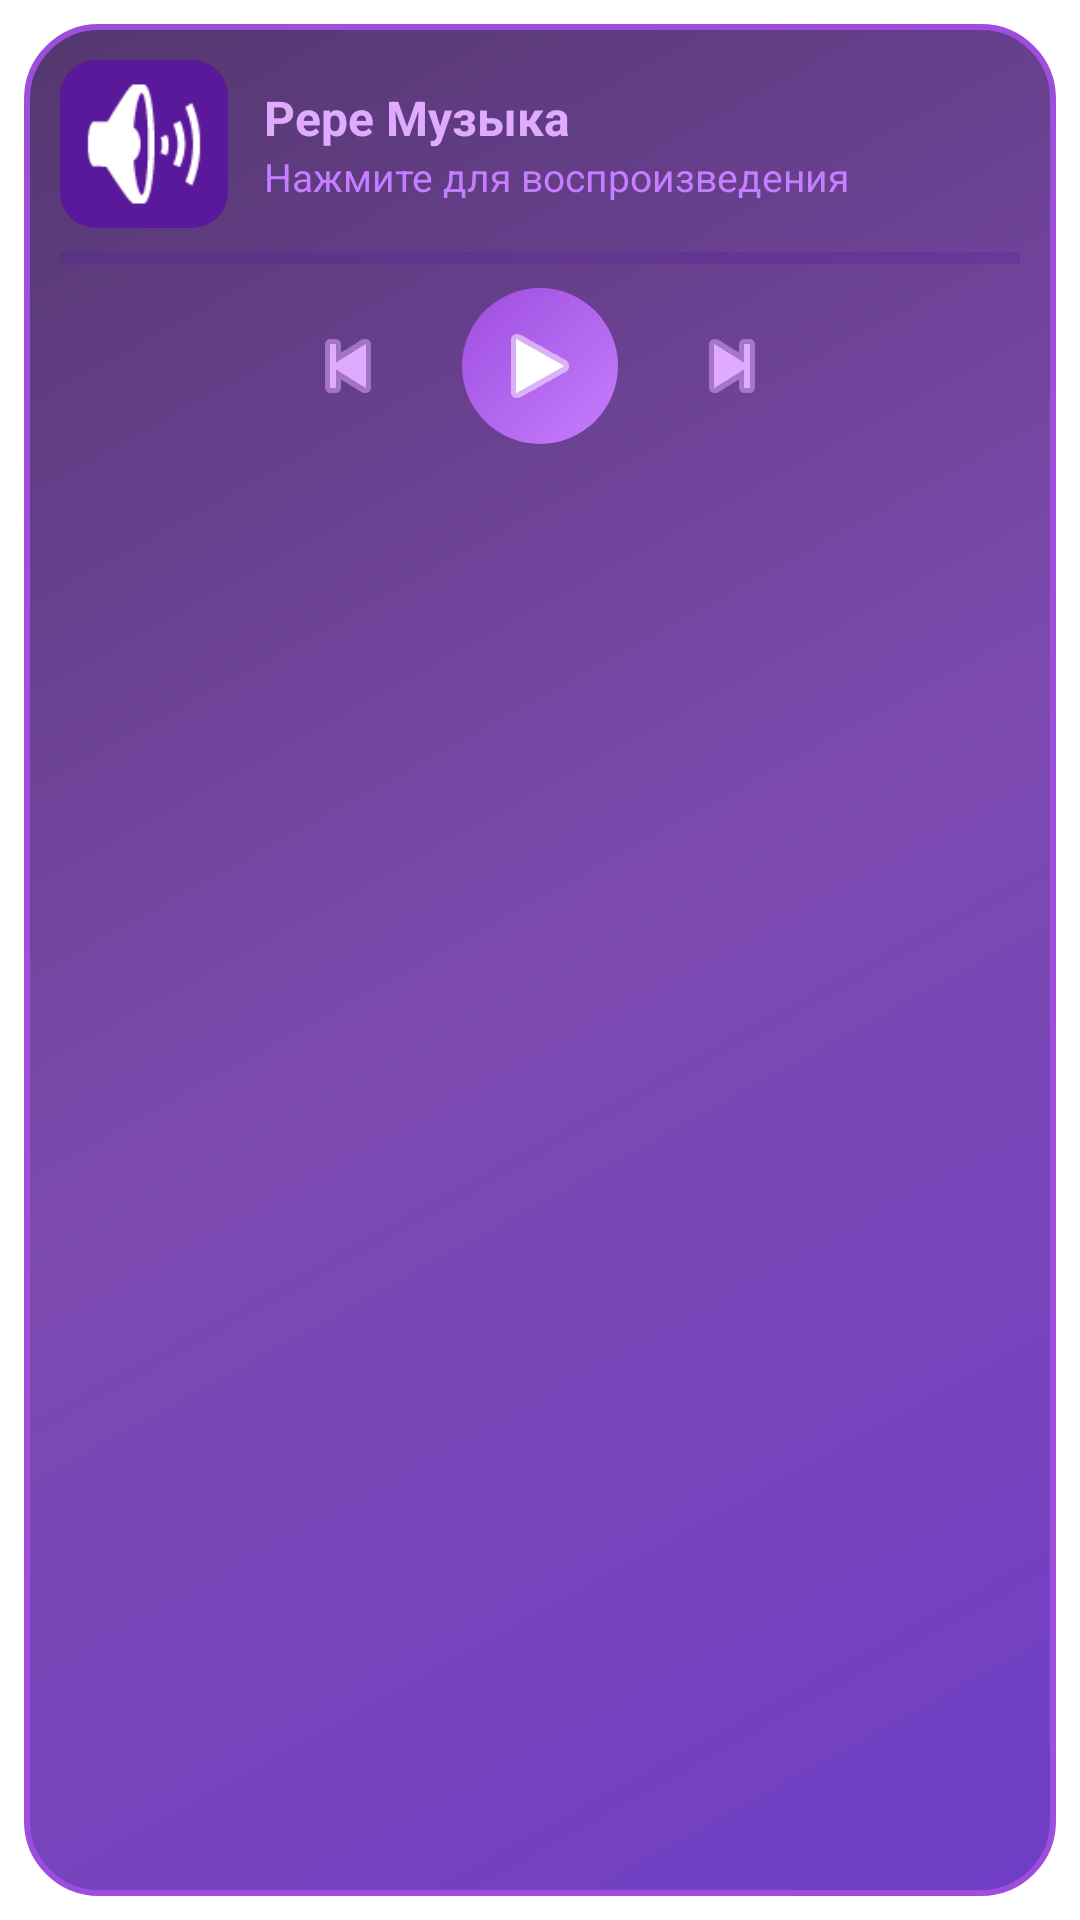

Icons on this 1080 × 1920 Android screen, each with the point to tap as (x=x, y=y):
Next: (x=732, y=366)
Play/Pause: (x=540, y=366)
Previous: (x=348, y=366)
